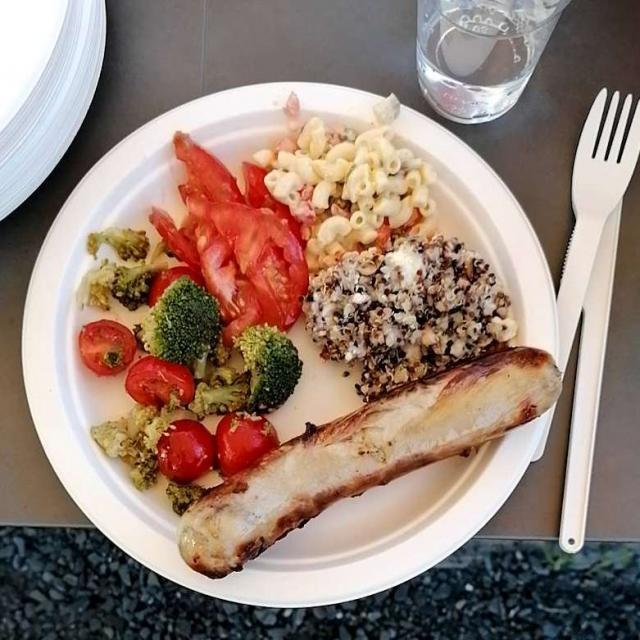broccoli: (81, 223, 321, 421)
quinoa: (318, 234, 510, 391)
sausage: (166, 344, 574, 605)
tomato-cooked: (70, 154, 304, 487)
water: (413, 16, 537, 125)
